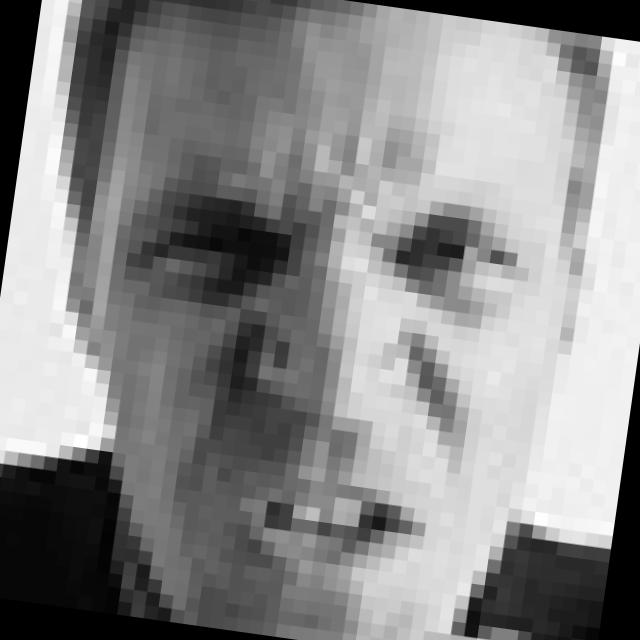angry: (75, 152, 532, 594)
